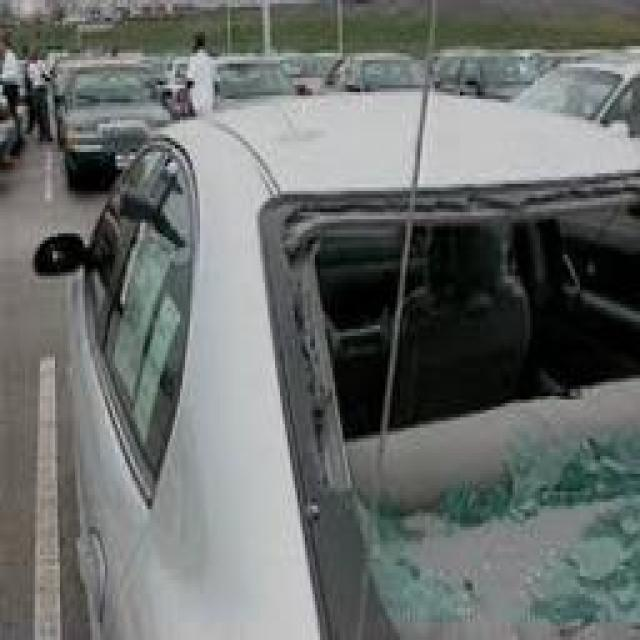replaceable: (274, 202, 635, 622)
